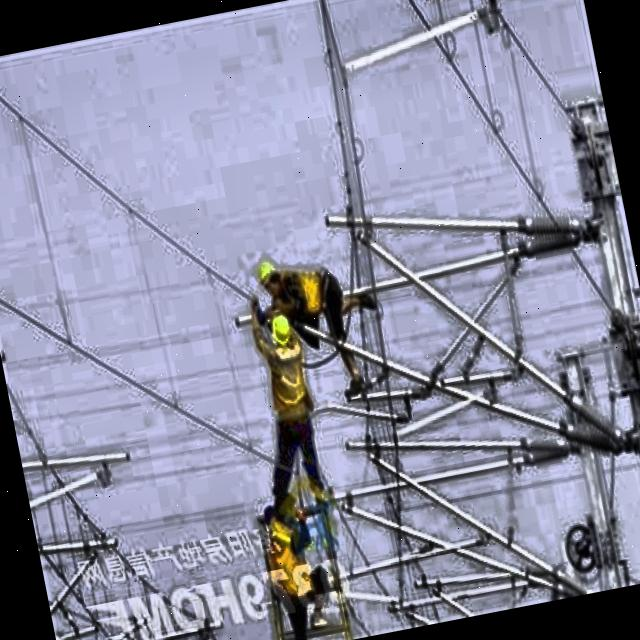helmet: (250, 256, 291, 300), (265, 306, 299, 358)
